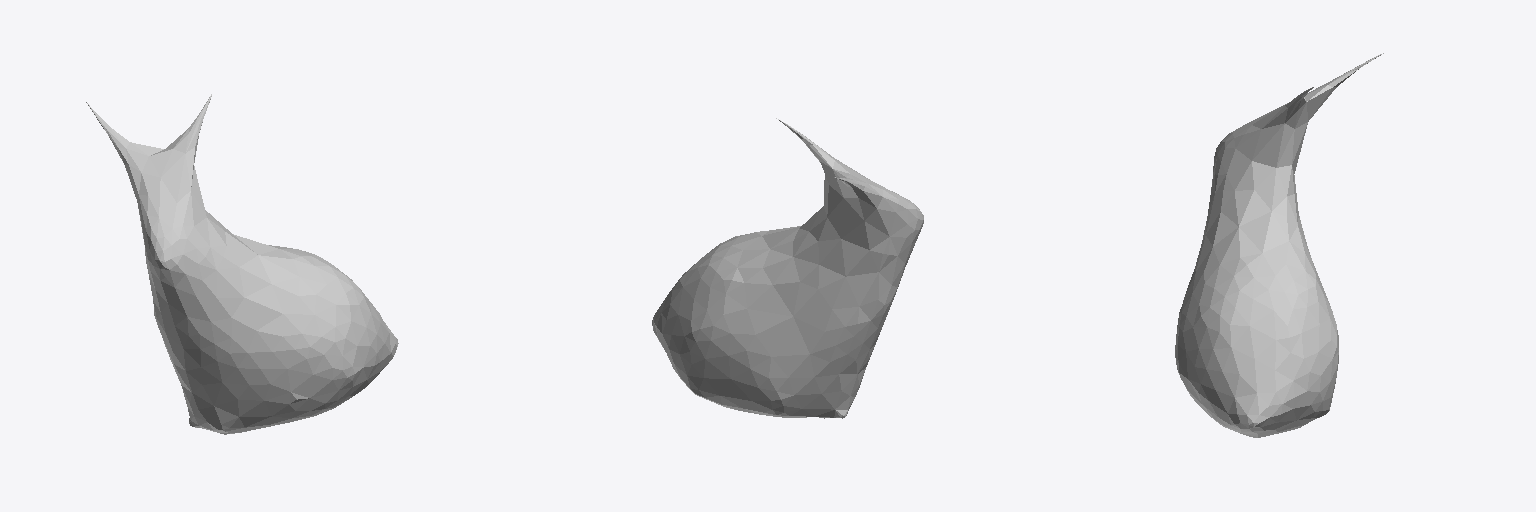
Rendered from bunny_tiny_smoothed_90.obj.
3 views of the same model, side by side, from view 1: azimuth 30°, elevation 25°; view 2: azimuth 150°, elevation 25°; view 3: azimuth 270°, elevation 25° (orthographic).
Size of the model in its own units: 6.51 by 7.61 by 4.61.